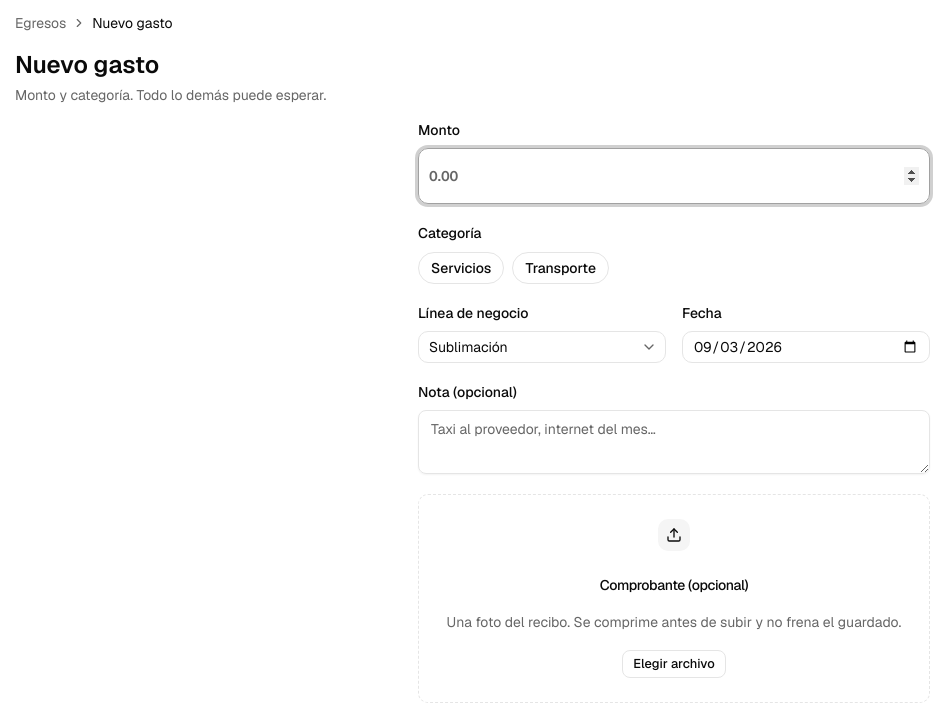
Test: CostForm (V9) › muestra el error del servidor sin salir del formulario
The image size is (950, 723).
Step 1. Type "10" into the number field labelled "Monto" → (674, 176), box [418, 148, 930, 204]
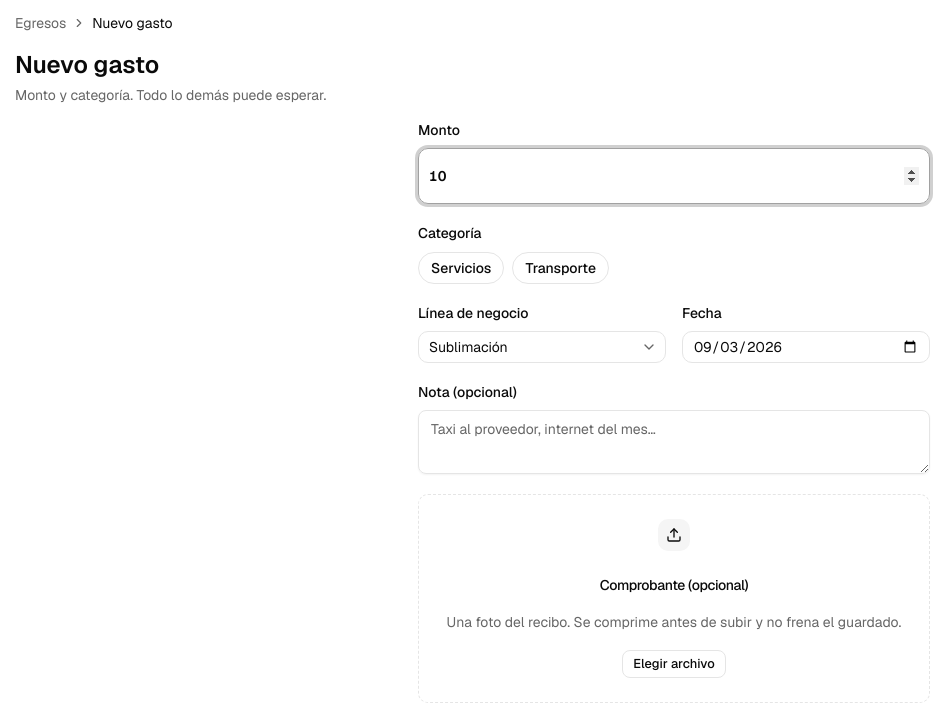
Step 2. Click the radio button labelled "Servicios" → (461, 268), box [418, 252, 504, 284]
(page scrolled)
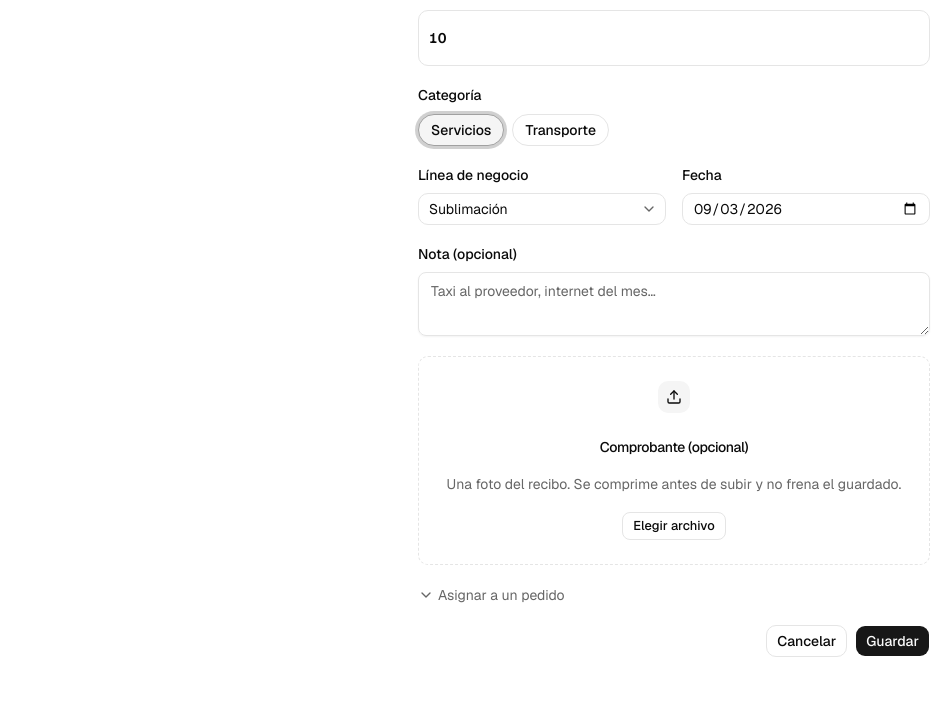
Step 3. Click the button with test id "save-cost" → (893, 641), box [855, 625, 930, 657]
(page scrolled)
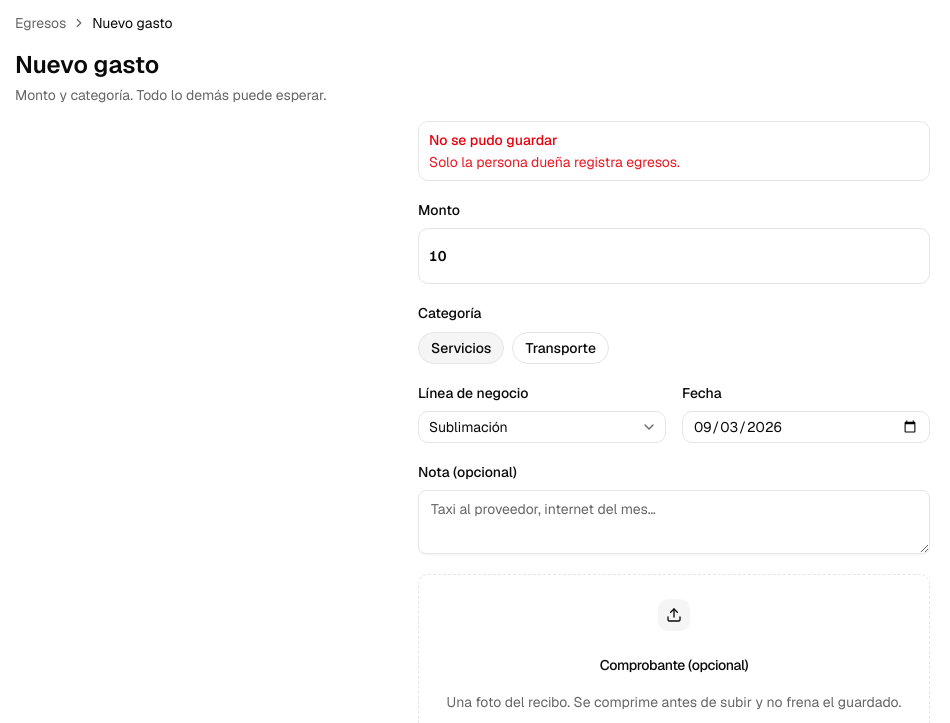
expect the message shows "Solo la persona dueña registra egresos.": met, box [429, 153, 680, 171]
